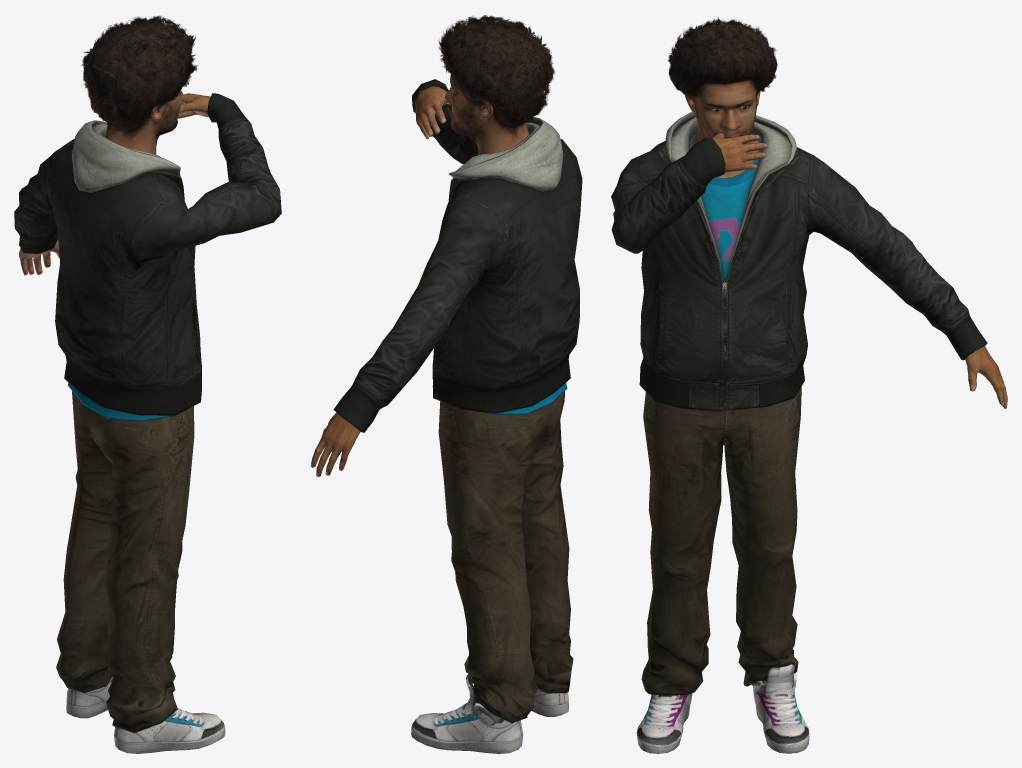
The model's file is standing-gallery-visitor.glb.
3 views of the same model, side by side, from view 1: azimuth 30°, elevation 25°; view 2: azimuth 150°, elevation 25°; view 3: azimuth 270°, elevation 25° (orthographic).
Parts seen in each view (by area): view 1: standing-gallery-visitor; view 2: standing-gallery-visitor; view 3: standing-gallery-visitor.
Part boxes in pixels (x1,y1,x2,y2): standing-gallery-visitor: (14, 15, 281, 753); standing-gallery-visitor: (310, 15, 582, 753); standing-gallery-visitor: (611, 17, 1007, 753).
Size of the model in its own units: 46.48 by 187 by 94.64.
3 materials, 3 textured.
